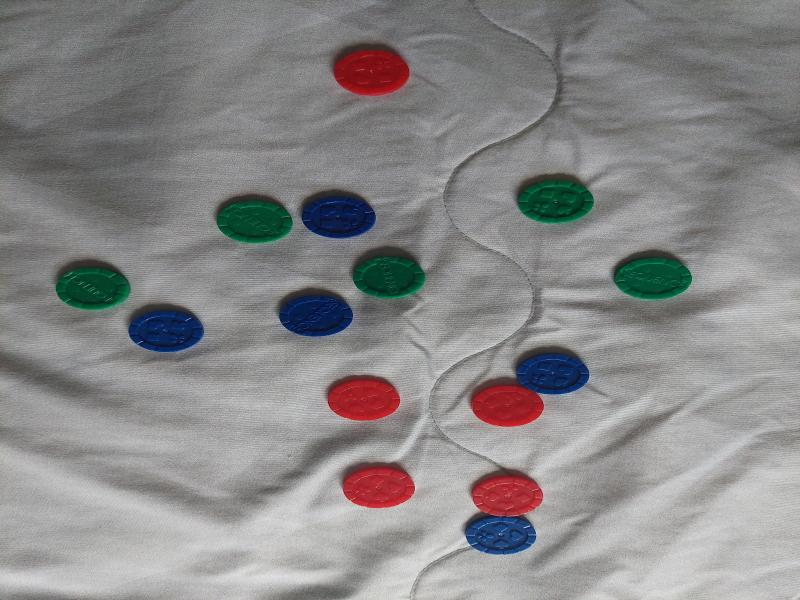Blue_Token: (256, 286, 383, 359), (510, 335, 624, 404), (291, 174, 399, 238), (132, 306, 230, 358), (461, 513, 547, 553)
Green_Token: (516, 169, 642, 248), (185, 183, 301, 265), (609, 243, 704, 314), (55, 251, 134, 316), (344, 252, 439, 305)
Red_Token: (328, 443, 450, 527), (334, 40, 444, 117), (448, 450, 552, 526), (325, 360, 416, 440), (452, 386, 571, 439)
